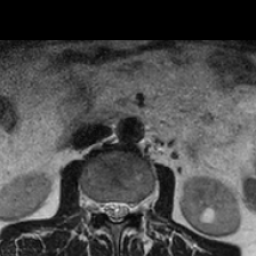CCS_normal: (111, 190, 120, 231)
LFS_normal: (130, 193, 140, 221)
LLS_normal: (120, 190, 130, 227)
RFS_normal: (93, 190, 103, 221)
RLS_normal: (103, 192, 111, 225)
